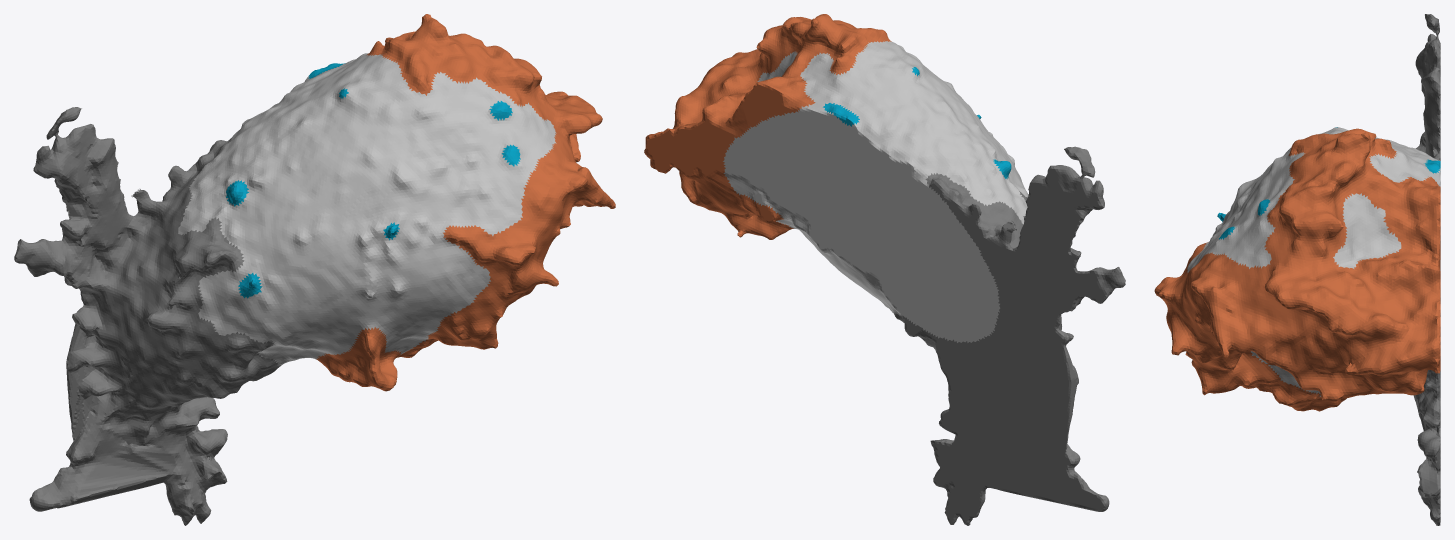
The picture shows the model from 3 angles, left to right: view 1: azimuth 30°, elevation 25°; view 2: azimuth 150°, elevation 25°; view 3: azimuth 270°, elevation 25°; orthographic projection. The views are drawn at different scales.
Size of the model in its own units: 171 by 150 by 79.95.
